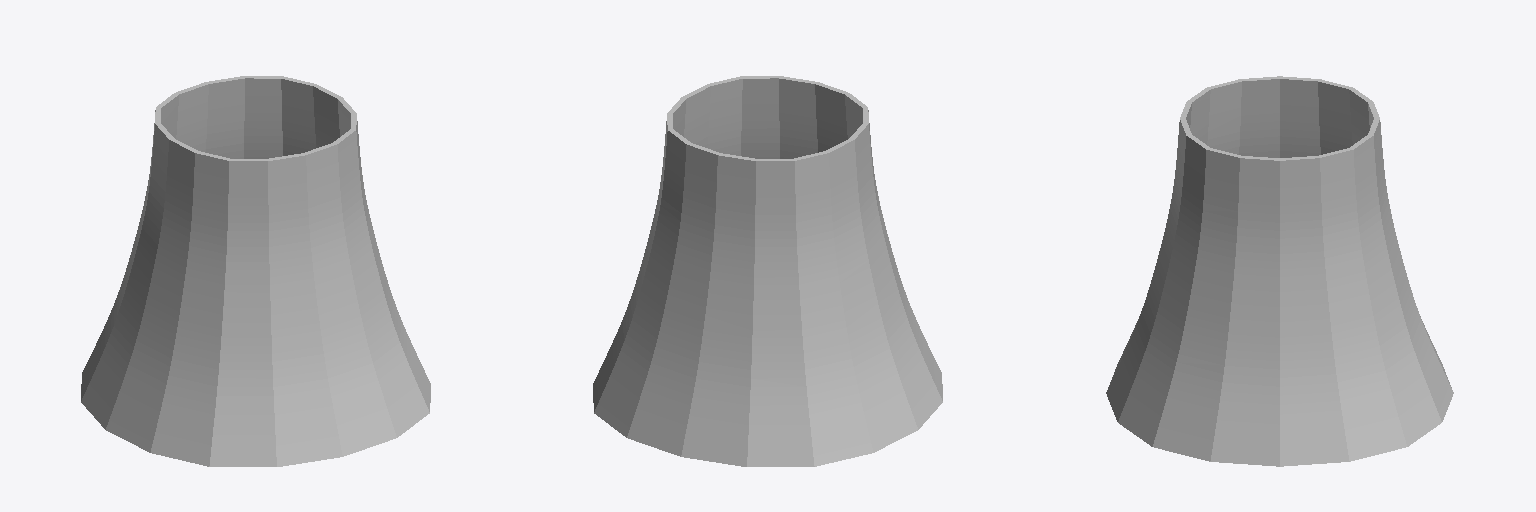
File: bedside_lamp_shade2.obj
3 views of the same model, side by side, from view 1: azimuth 30°, elevation 25°; view 2: azimuth 150°, elevation 25°; view 3: azimuth 270°, elevation 25° (orthographic).
Visible parts, largest first — view 1: Cube.003; view 2: Cube.003; view 3: Cube.003.
Part boxes in pixels (x1,y1,x2,y2): Cube.003: (81, 76, 430, 466); Cube.003: (593, 76, 942, 466); Cube.003: (1106, 76, 1453, 466).
Bounding box in the file's own units: 0.171 × 0.1492 × 0.1712.